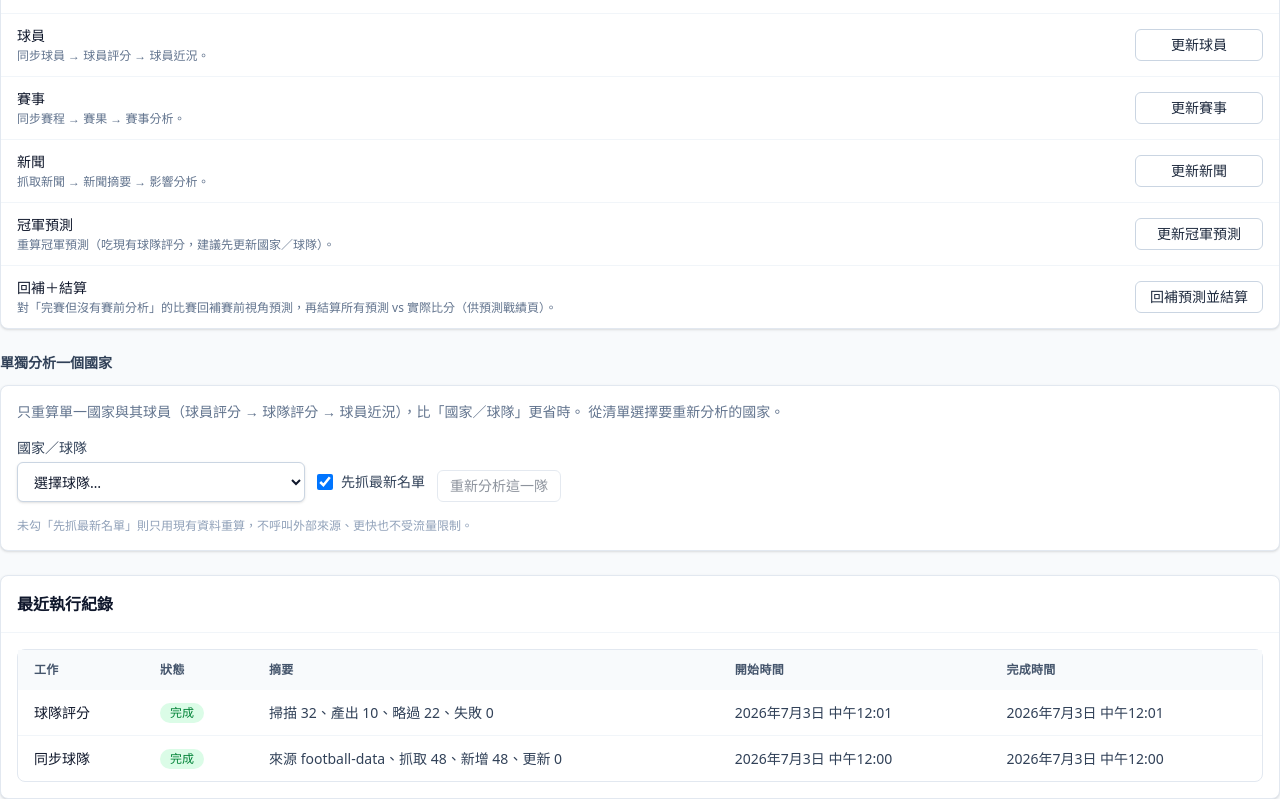
Scenario: AdminJobsPage › shows a not-found notice when the team is unknown (404)
(page scrolled)
Step 1. Select "法國（FRA）" in the dropdown labelled "國家／球隊" → (161, 482), box [17,462,305,502]
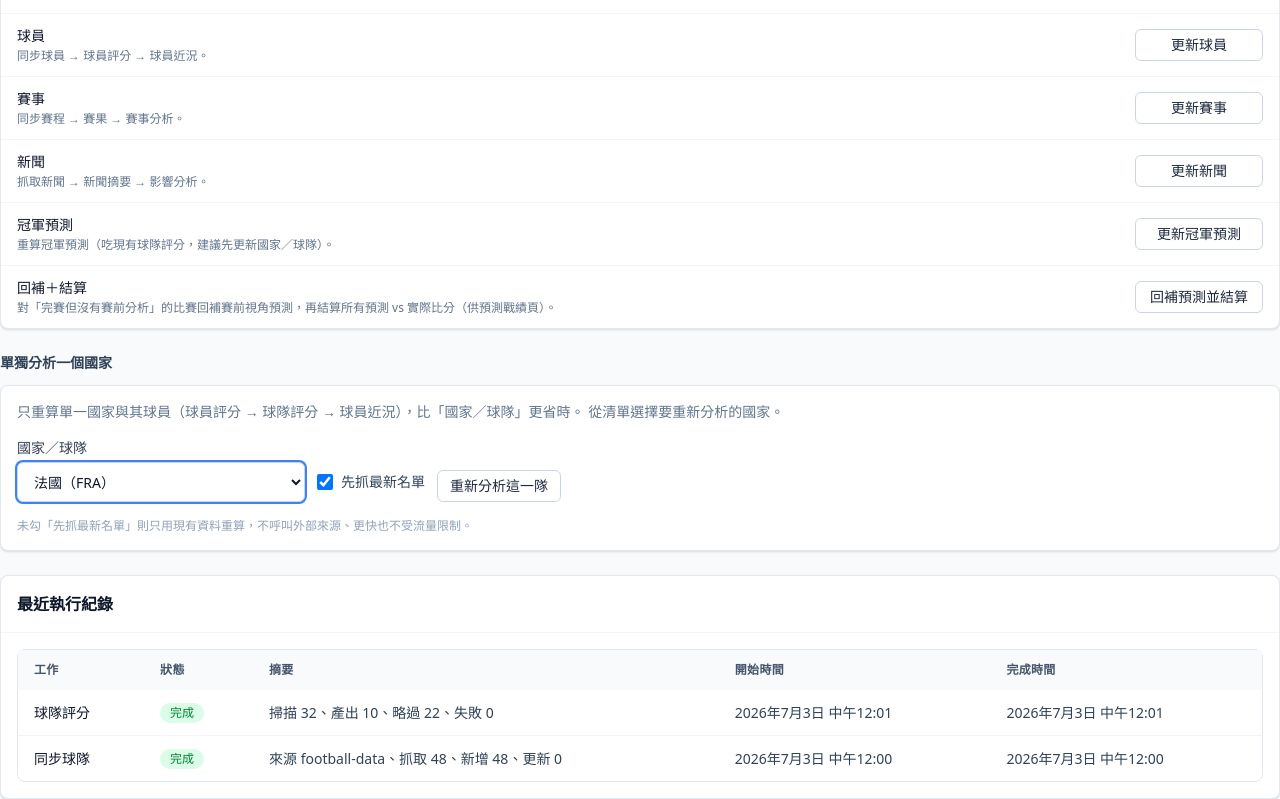
Step 2. Click the button "重新分析這一隊" → (499, 486), box [437,470,561,502]
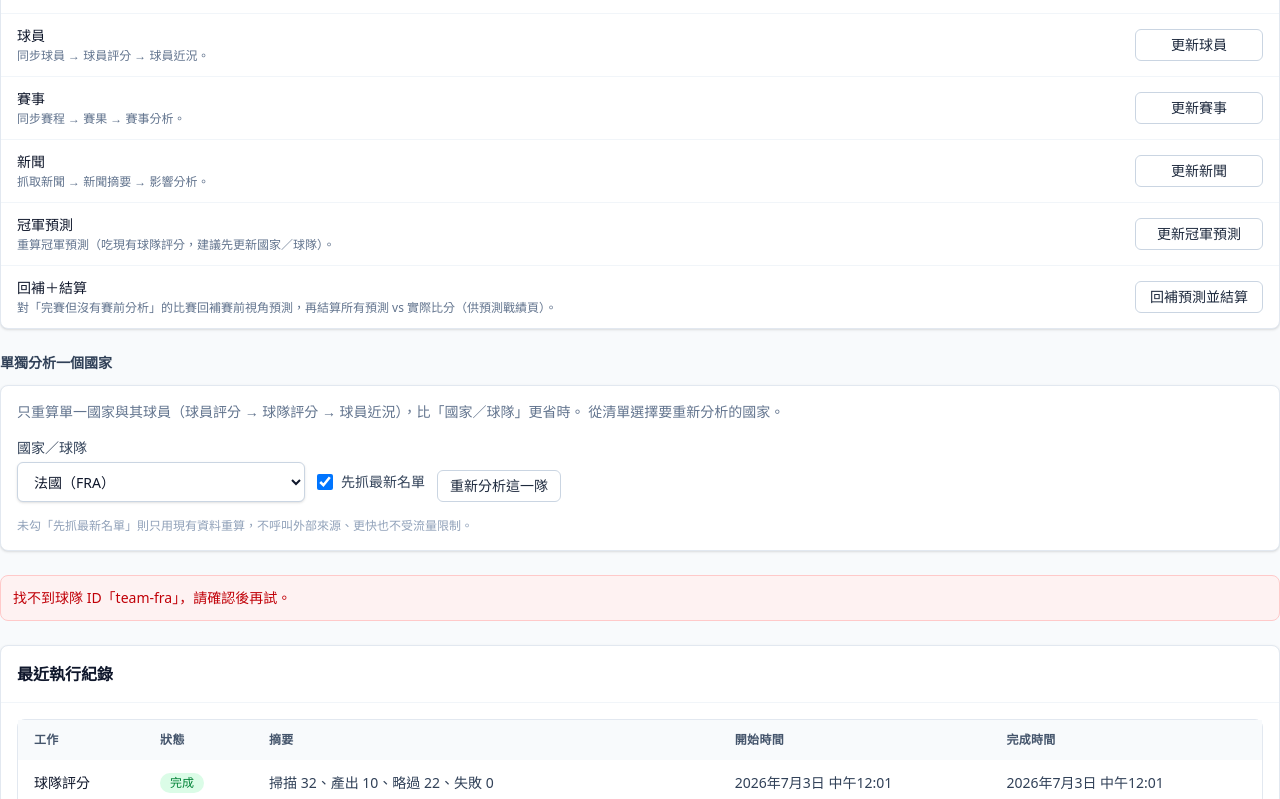
Expected: the text "找不到球隊 ID「team-fra」，請確認後再試。" is shown, [13,588,291,608]
